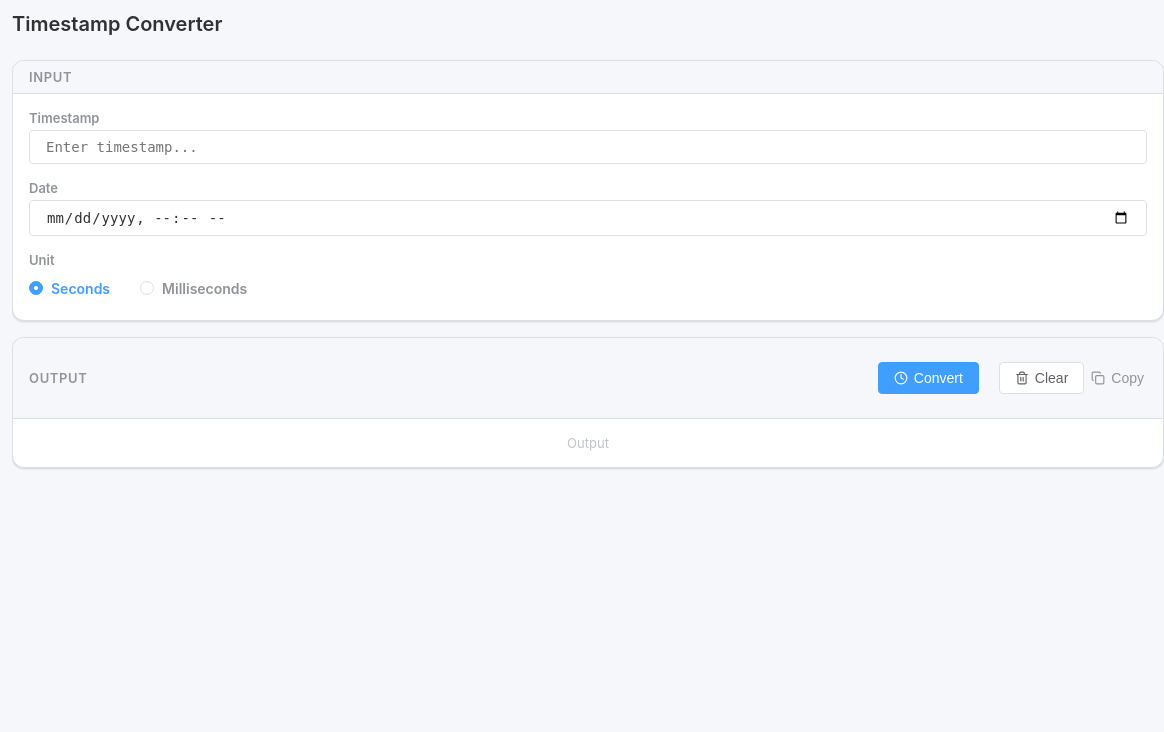
TimestampConverter › should convert timestamp to date
In the field with class "timestamp-input": coordinates (588, 147) [29,130,1147,164], type "1609459200"
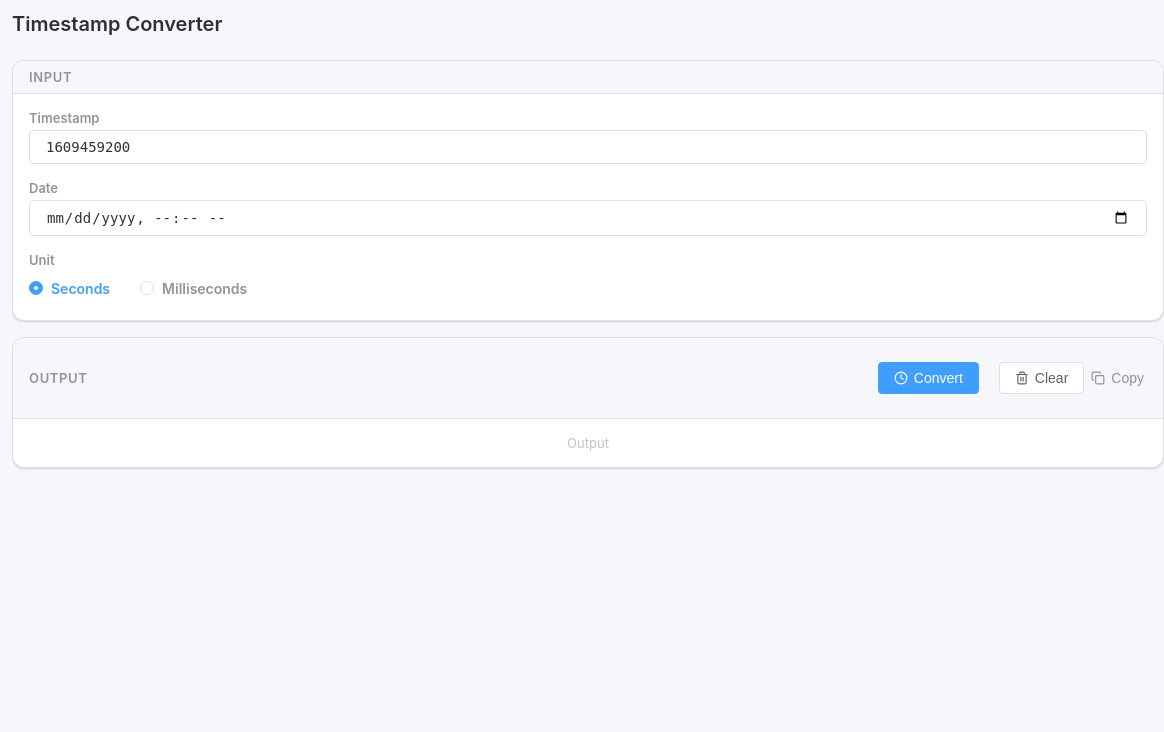
Click the button "Convert": coordinates (928, 378) [878,362,979,394]
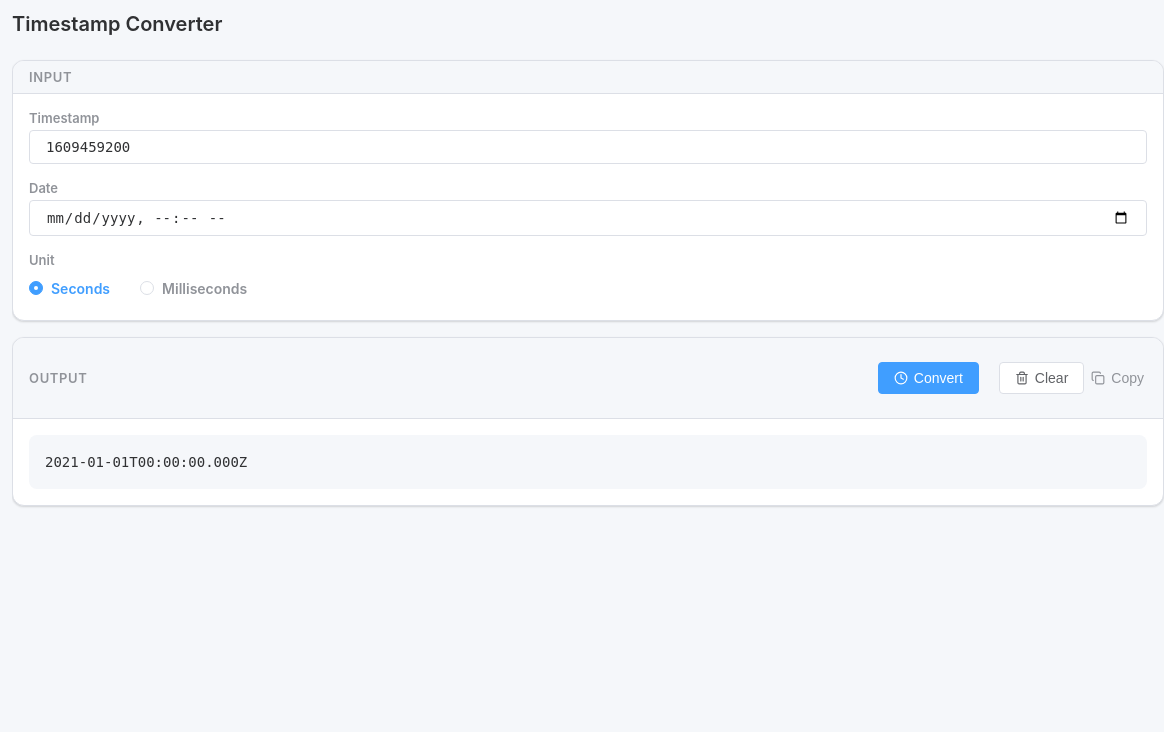
Result: the element with class "code-content" shows "2021" at [45,454,247,470]
